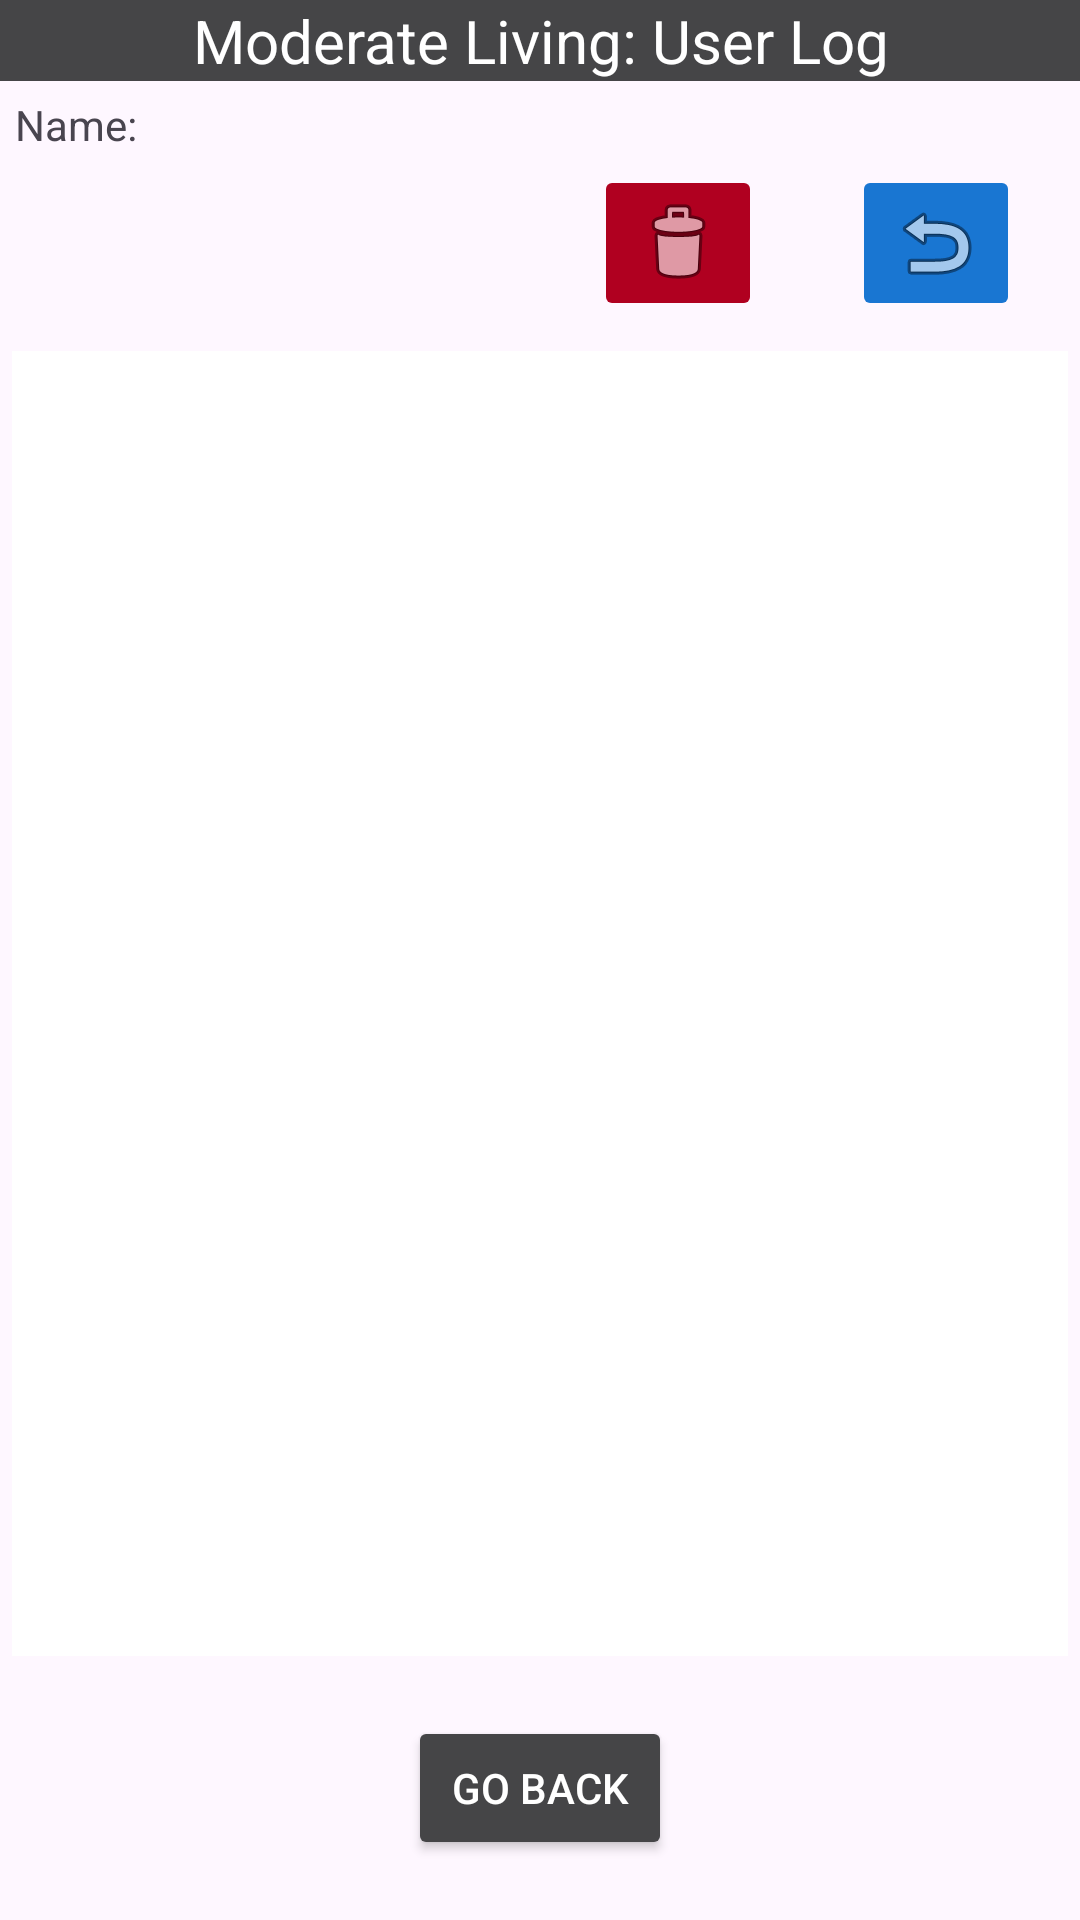

Screen size 1080x1920. Icon name, then its center in pixels as [x,y]:
delete: [678,243]
revert: [936,243]
